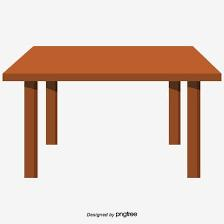desk: (4, 28, 220, 191)
